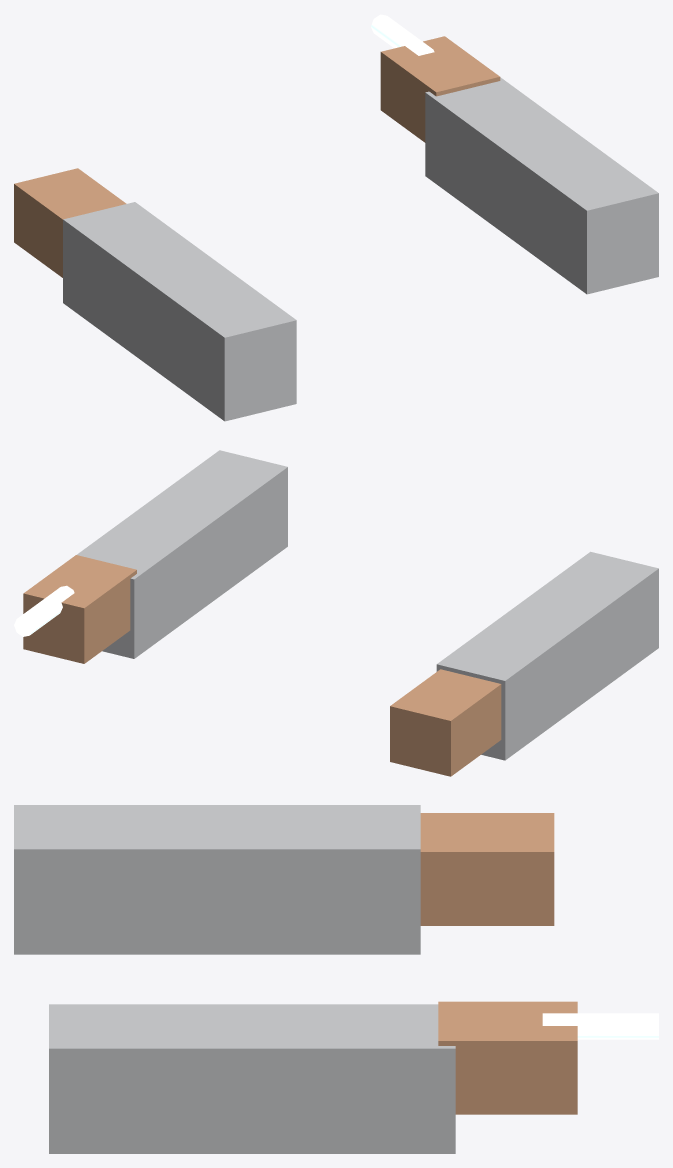
File: CB_CHAR_Hands_A.glb
3 renders of one model, top to bottom at view 1: azimuth 30°, elevation 25°; view 2: azimuth 150°, elevation 25°; view 3: azimuth 270°, elevation 25°, orthographic. The views are drawn at different scales.
Parts seen in each view (by area): view 1: CB_CHAR_Hands_A; view 2: CB_CHAR_Hands_A; view 3: CB_CHAR_Hands_A.
Part boxes in pixels (x1=…): CB_CHAR_Hands_A: x1=14, y1=14, x2=658, y2=421; CB_CHAR_Hands_A: x1=14, y1=450, x2=658, y2=776; CB_CHAR_Hands_A: x1=14, y1=805, x2=658, y2=1153.
Bounding box in the file's own units: 0.56 × 0.142 × 0.555.
